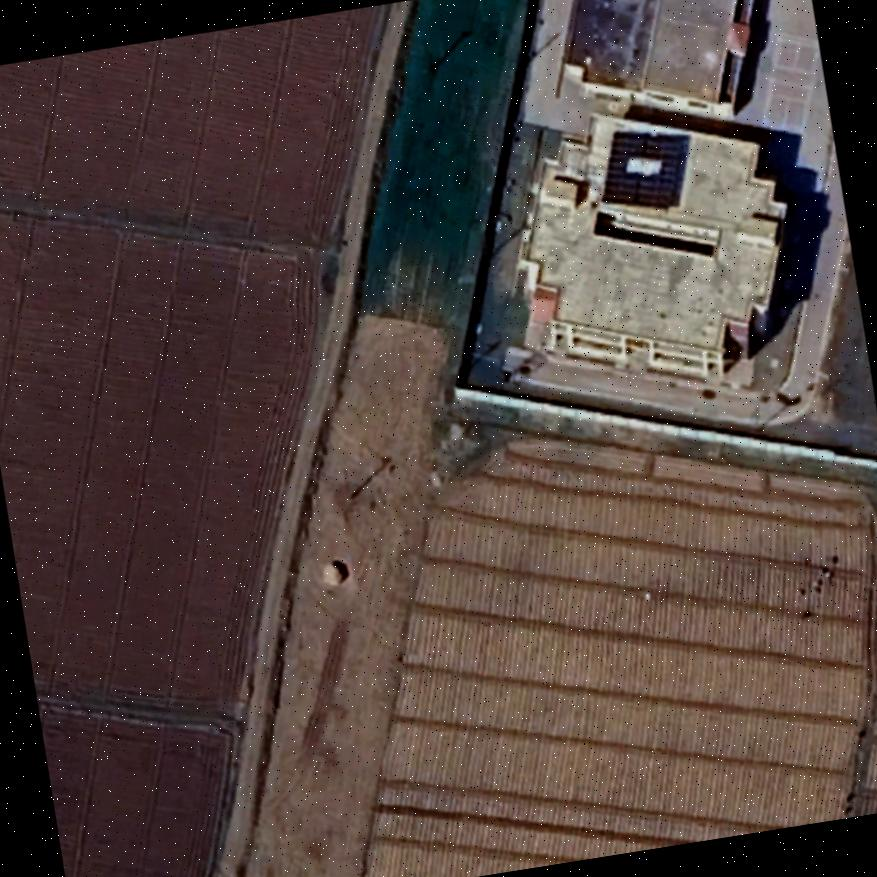Solarpanel: (586, 114, 701, 223)
